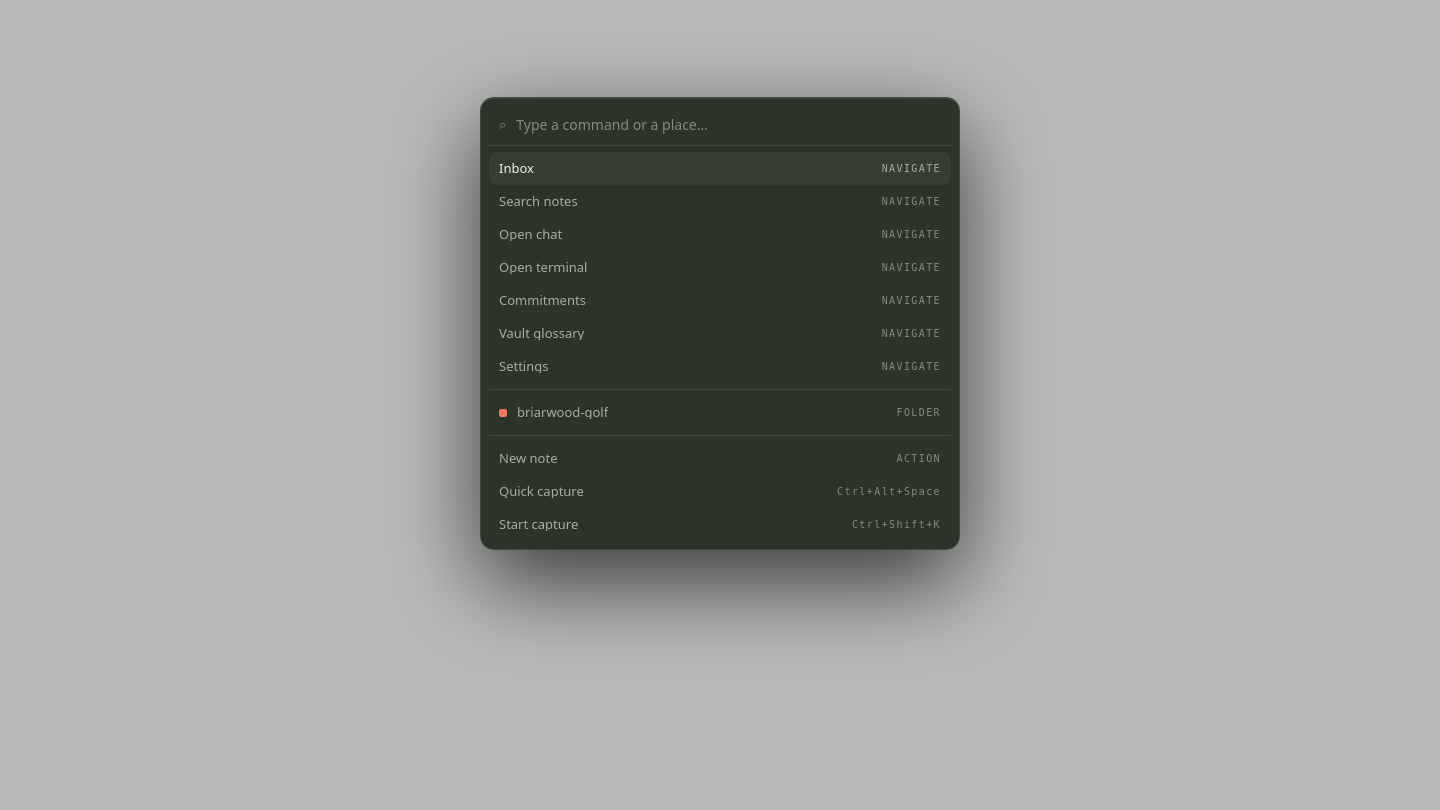
CommandPalette › matches on more than a substring
Expected: the option "briarwood-golf folder" is shown, 499,403 -> 941,421
Type "trm" into the dropdown at [729, 125], box 516,114 -> 941,135
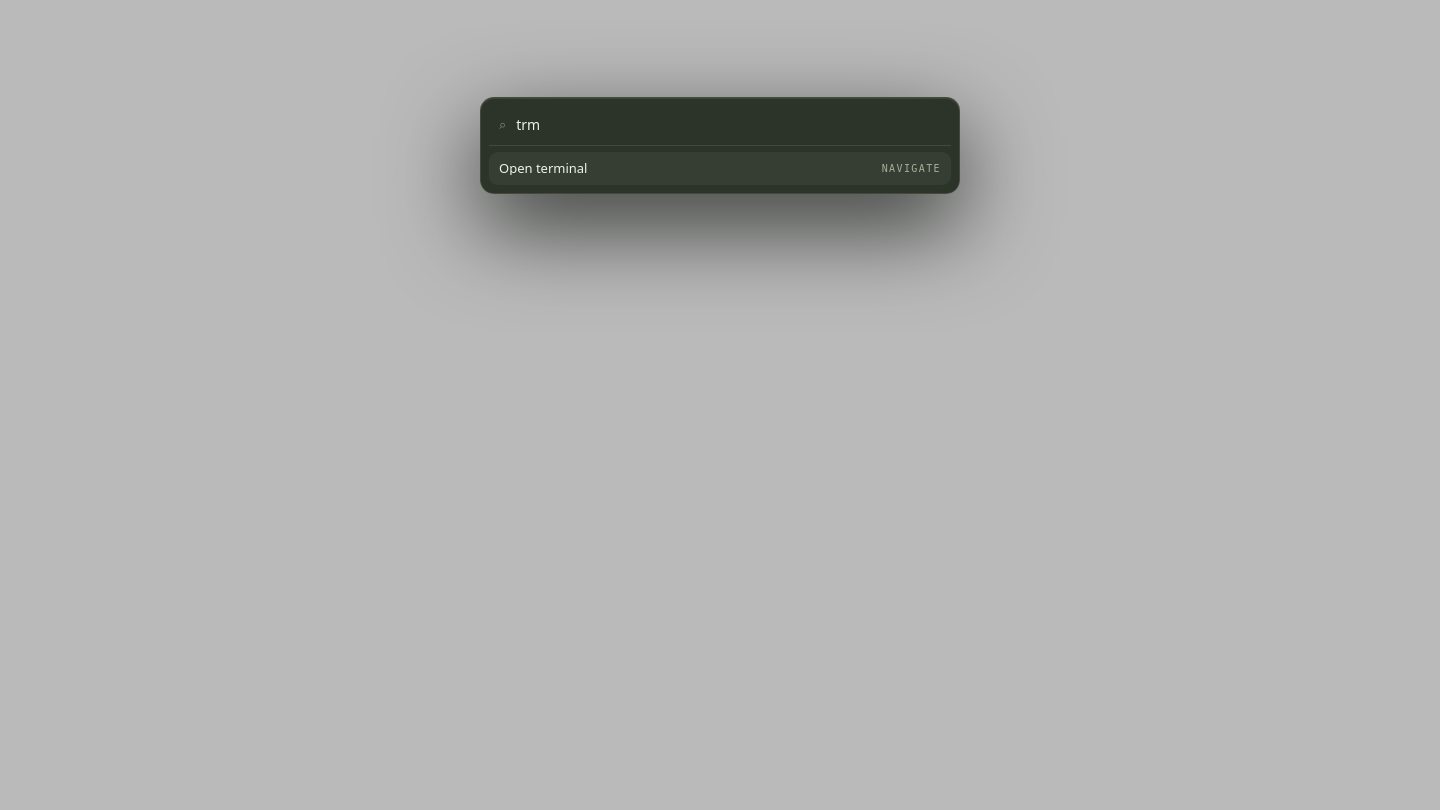
Expected: the option "Open terminal navigate" is shown, 489,152 -> 951,185
Expected: the option "Inbox" is gone
